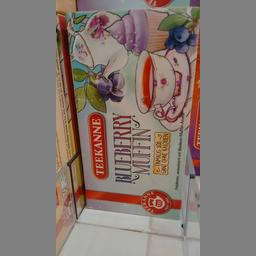tea: (64, 6, 198, 220)
